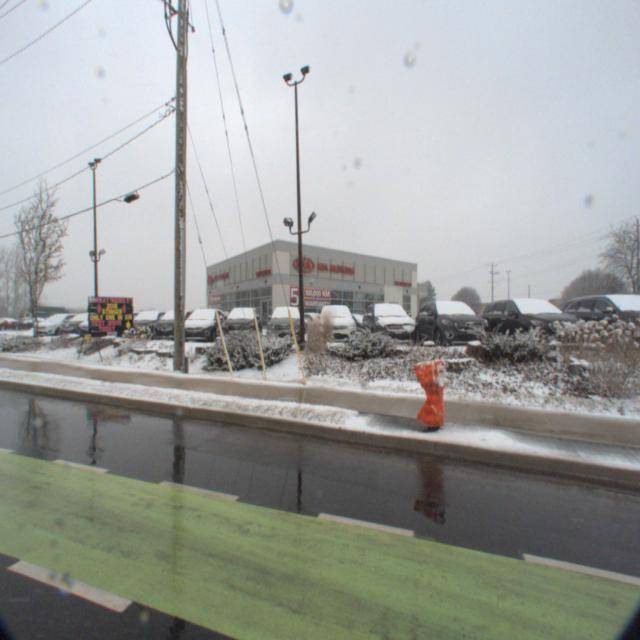Car: (476, 289, 592, 353), (410, 294, 496, 351), (358, 297, 419, 348), (174, 306, 228, 346), (215, 304, 264, 346), (115, 309, 173, 344), (22, 312, 87, 342), (146, 308, 200, 344), (315, 301, 357, 347), (261, 304, 303, 344), (50, 312, 110, 340), (292, 310, 336, 334), (333, 313, 375, 333)
Truck: (14, 302, 72, 324)
